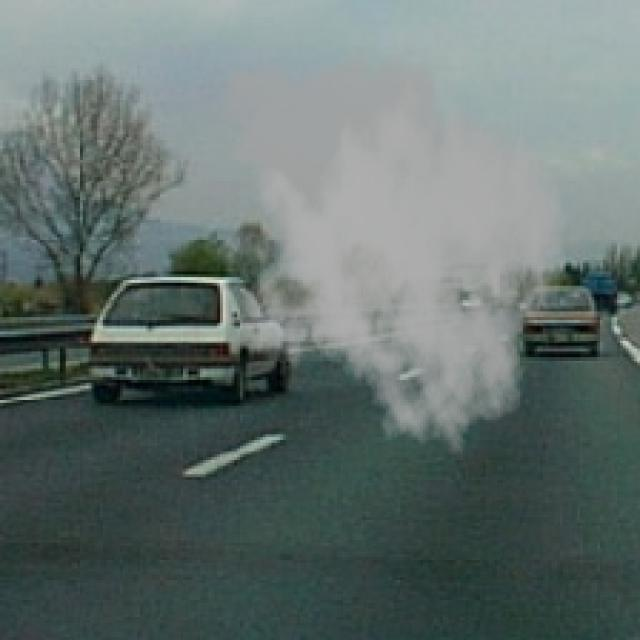Smoke: (206, 40, 568, 457)
